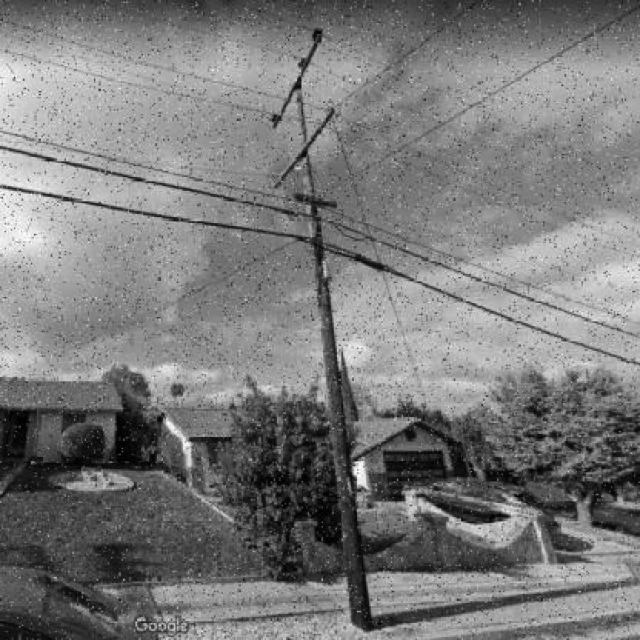crossarm: (270, 103, 334, 192), (270, 26, 322, 131)
pole: (296, 87, 375, 627)
wire: (0, 143, 640, 339), (0, 183, 640, 369)
